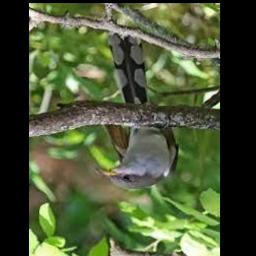Cuckoo: (95, 33, 179, 190)
